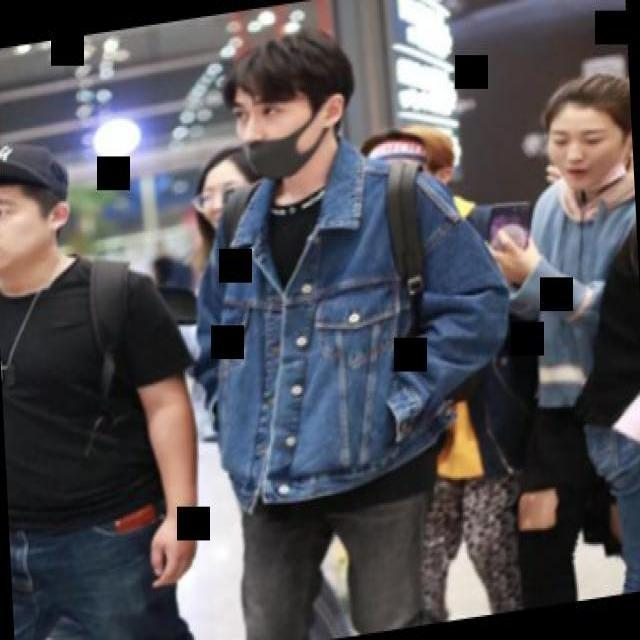hairnet: (233, 119, 319, 180)
no_hairnet: (555, 143, 610, 186)
